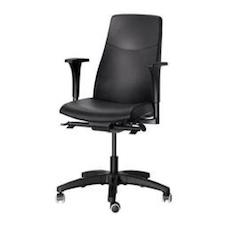chair: (34, 7, 191, 226)
